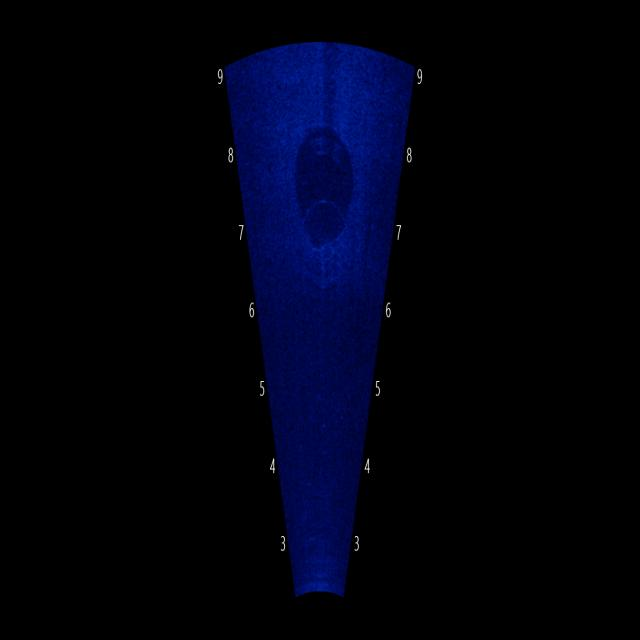circle: (287, 100, 360, 274)
